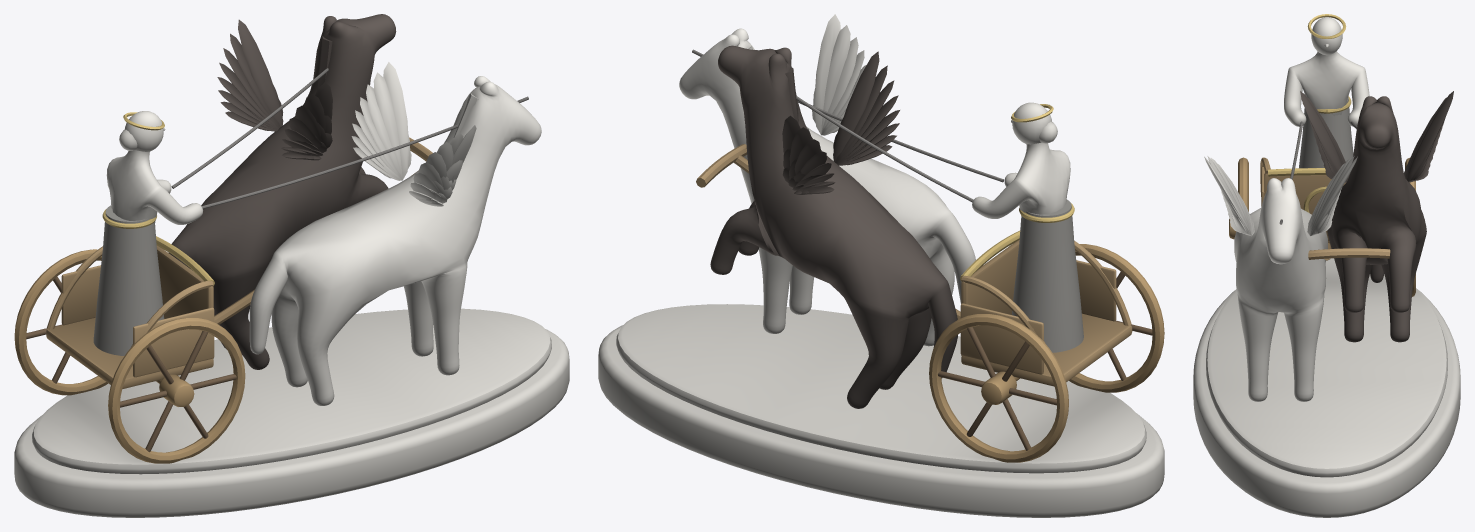
File: obj_kit_chariot.glb
3 renders of one model, left to right at view 1: azimuth 30°, elevation 25°; view 2: azimuth 150°, elevation 25°; view 3: azimuth 270°, elevation 25°, orthographic. The views are drawn at different scales.
Parts seen in each view (by area): view 1: Cylinder.001, horseW, Cylinder, horseB, chiton, Torus.002, driver, Cube, Torus.001, Cube.003, Cube.001, Cube.002 (+11 smaller); view 2: Cylinder.001, horseB, Cylinder, horseW, chiton, Torus.001, driver, Cube, Torus.002, Cube.002, Cube.001, Cube.003 (+11 smaller); view 3: Cylinder.001, horseB, Cylinder, horseW, driver, chiton, Cube.001, Sphere.043, driverHead, Sphere.061, yoke, Torus.002 (+4 smaller).
Part boxes in pixels (x1,y1,x2,y2): Cylinder.001: (32,308,551,474); horseW: (249,76,541,405); Cylinder: (14,329,569,517); horseB: (168,14,396,369); chiton: (93,205,164,355); Torus.002: (108,318,245,463); driver: (106,150,203,225); Cube: (46,317,213,388); Torus.001: (14,249,107,395); Cube.003: (133,307,214,377); Cube.001: (156,245,213,358); Cube.002: (61,265,100,325); Cylinder.001: (616,304,1146,473); horseB: (710,45,957,408); Cylinder: (598,325,1164,517); horseW: (679,28,975,346); chiton: (1012,199,1083,352); Torus.001: (929,314,1068,462); driver: (972,142,1070,218); Cube: (961,313,1132,386); Torus.002: (1069,244,1164,392); Cube.002: (960,303,1043,374); Cube.001: (961,240,1019,355); Cube.003: (1076,260,1116,321); Cylinder.001: (1206,258,1447,477); horseB: (1327,96,1426,342); Cylinder: (1193,289,1460,517); horseW: (1234,178,1327,401); driver: (1284,51,1369,126); chiton: (1299,97,1353,168); Cube.001: (1264,173,1345,240); Sphere.043: (1407,91,1453,181); driverHead: (1311,17,1342,55); Sphere.061: (1300,91,1347,181); yoke: (1308,248,1390,259); Torus.002: (1238,157,1248,211).
Bounding box in the file's own units: 1.32 × 0.8931 × 0.64.
